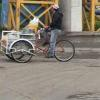bicycles: (9, 26, 75, 63)
